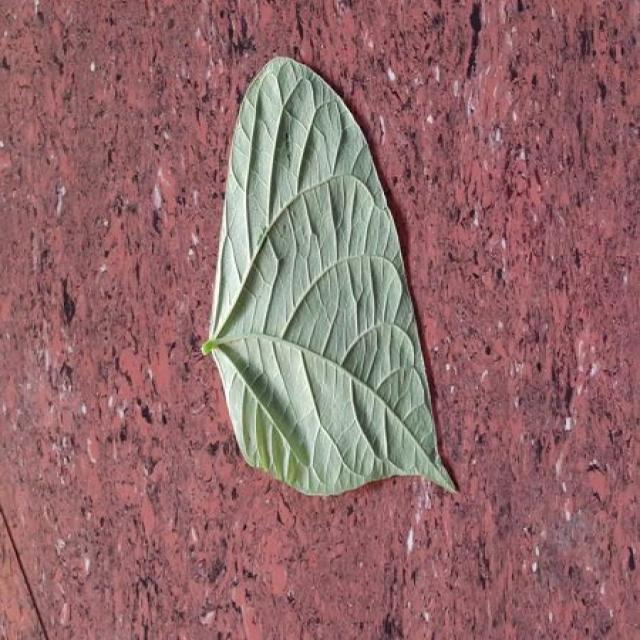beans: (202, 58, 455, 495)
